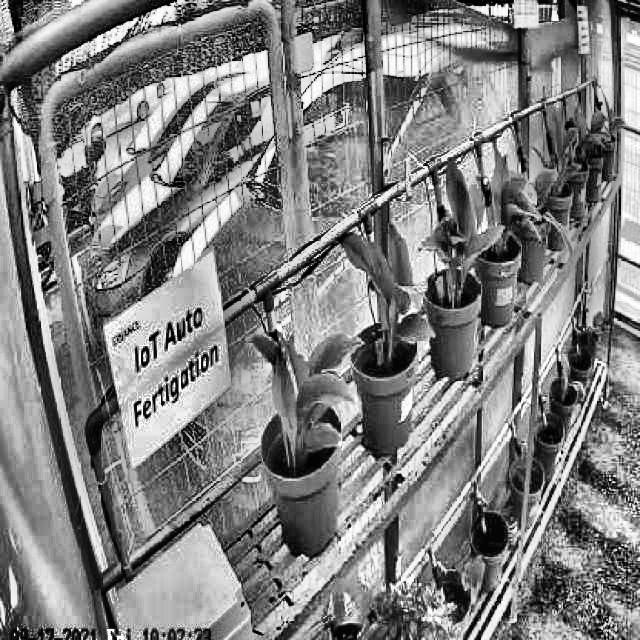plants: (248, 324, 364, 472), (339, 226, 436, 372), (417, 154, 505, 314), (498, 158, 572, 260), (462, 151, 522, 264)
